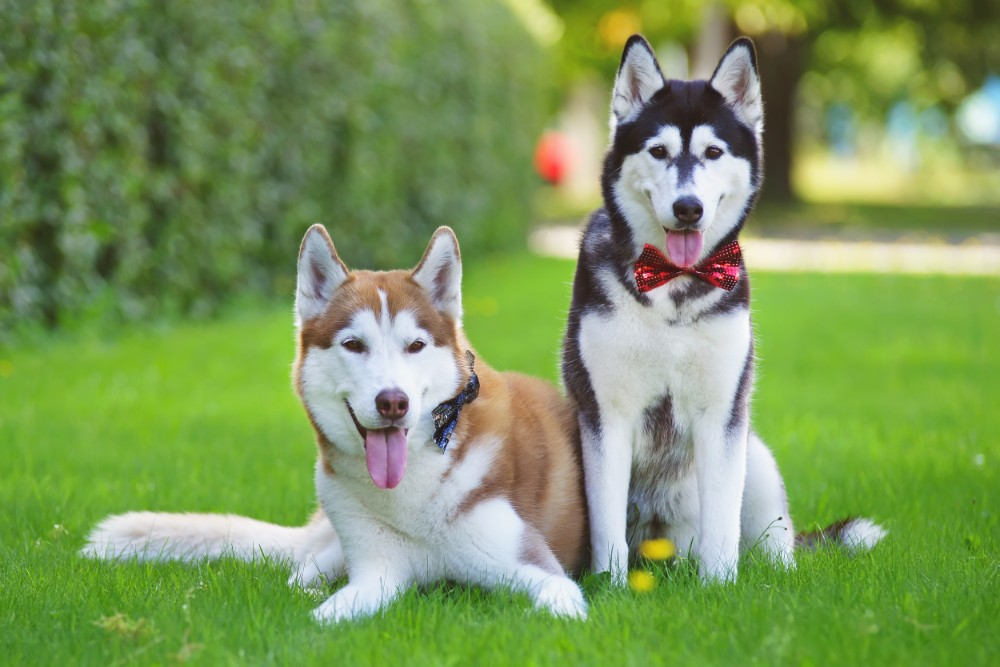husky: (556, 24, 799, 422), (260, 180, 516, 512)
